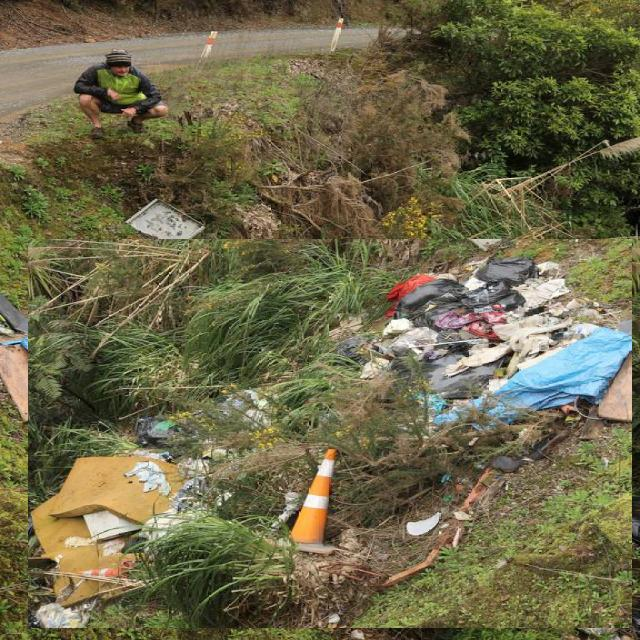dumping: (28, 239, 632, 628)
